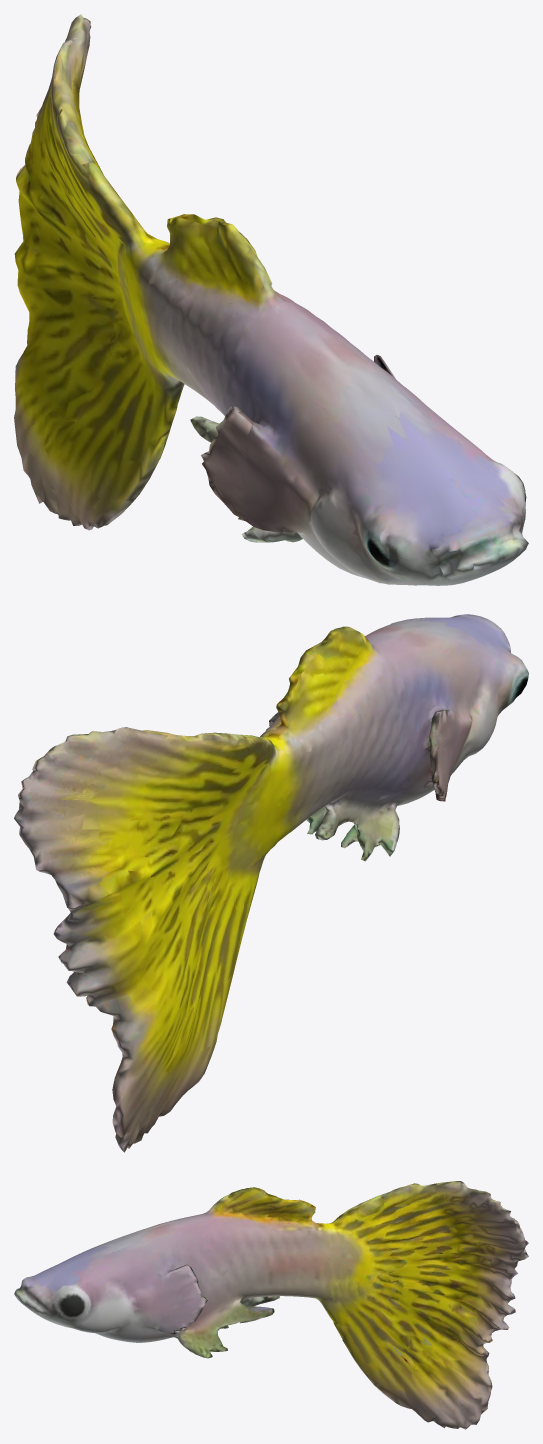
Rendered from strain-yellow_mosaic.glb.
3 views of the same model, one above another, from view 1: azimuth 30°, elevation 25°; view 2: azimuth 150°, elevation 25°; view 3: azimuth 270°, elevation 25° (orthographic). The views are drawn at different scales.
Parts seen in each view (by area): view 1: Mesh_0.001; view 2: Mesh_0.001; view 3: Mesh_0.001.
Boxes of the visible parts, bbox=[...] form: Mesh_0.001: bbox=[14, 14, 528, 585]; Mesh_0.001: bbox=[14, 614, 528, 1152]; Mesh_0.001: bbox=[14, 1181, 528, 1429].
Size of the model in its own units: 0.00843 by 0.0192 by 0.0359.
2 materials, 2 textured.
